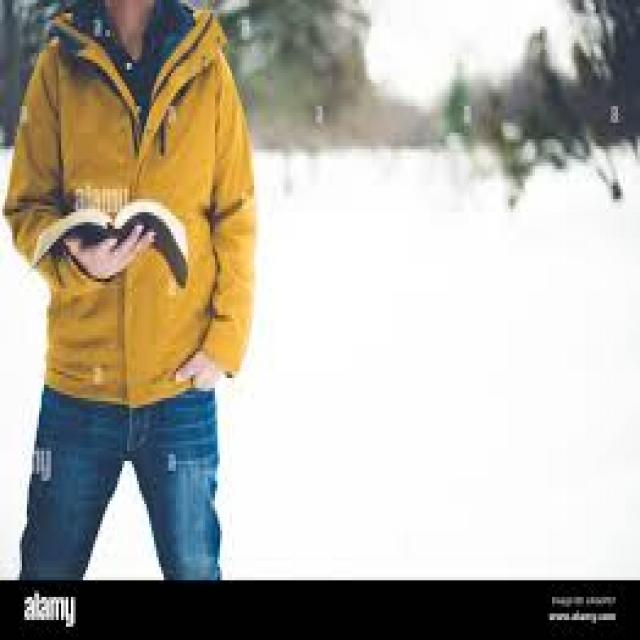Reflective-Jacket: (2, 7, 276, 411)
